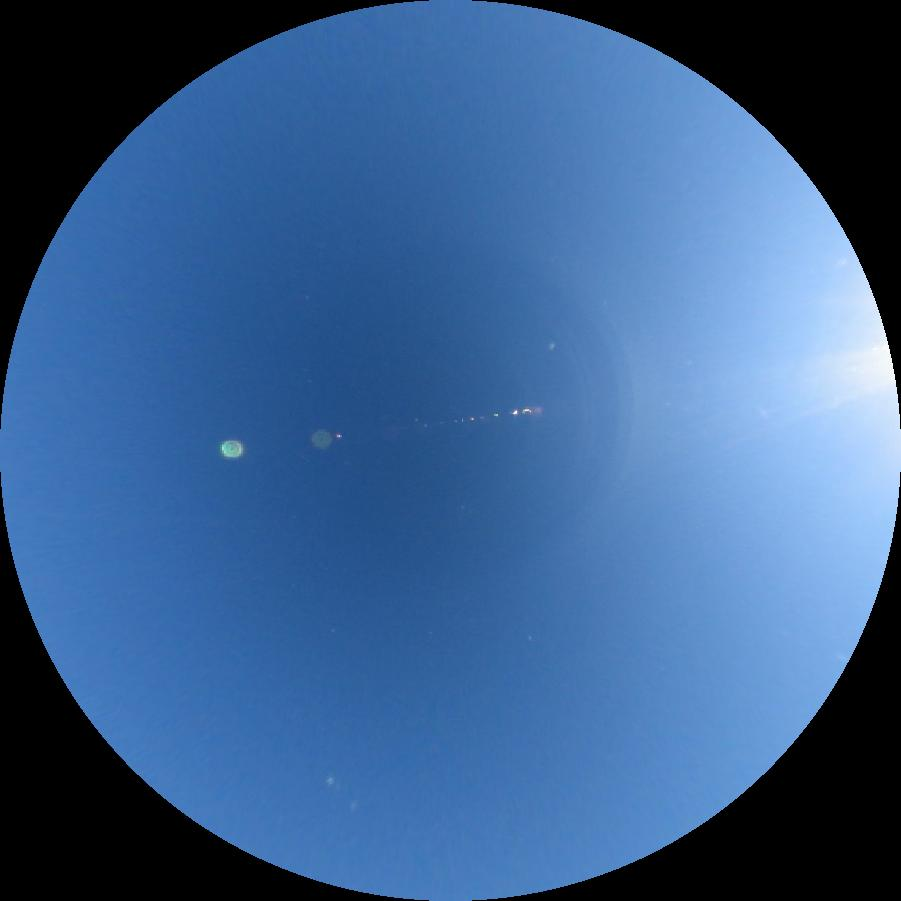contrail young: (296, 452, 310, 463)
